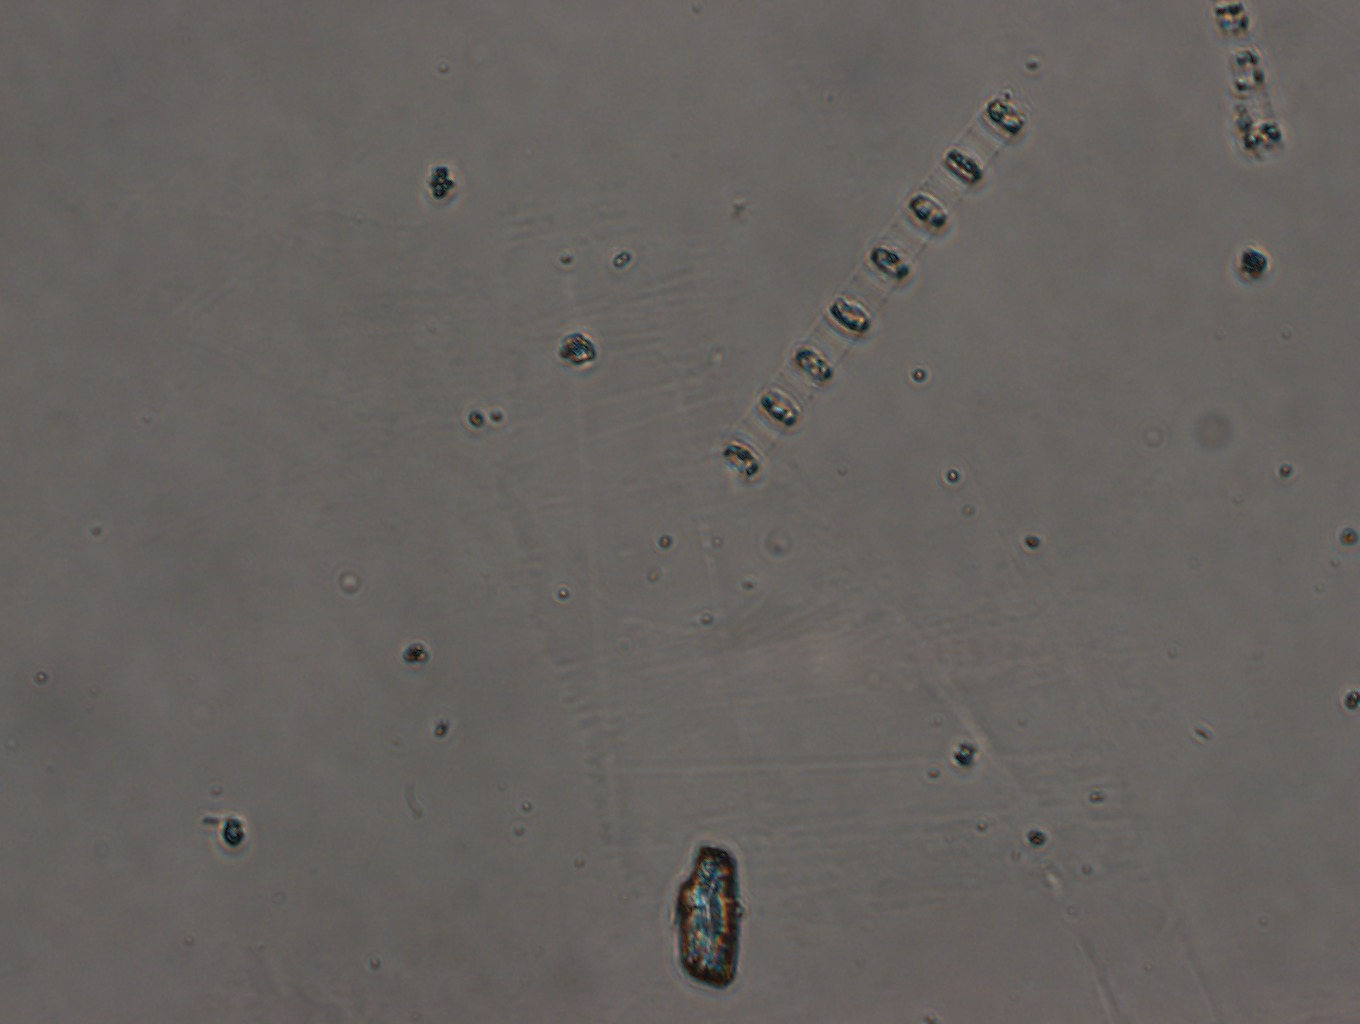skeletonema: (716, 89, 1035, 486), (1211, 1, 1283, 156)
